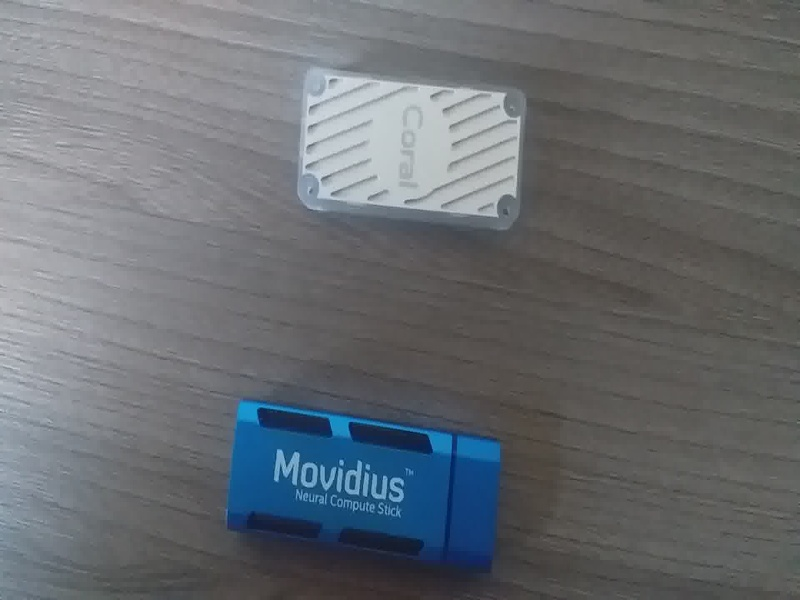coral: (290, 55, 531, 259)
movidius: (220, 395, 516, 576)
